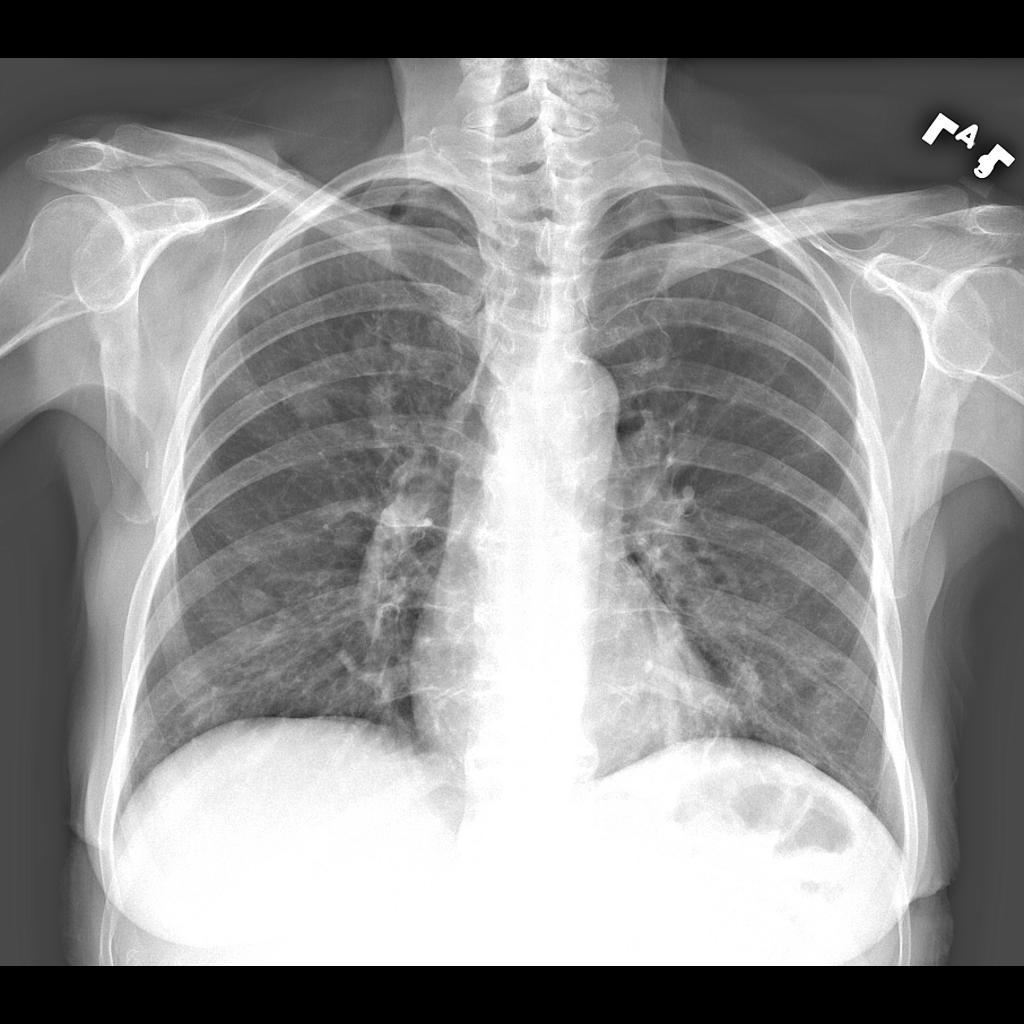Nodule: (289, 377, 345, 431), (239, 584, 275, 627)
